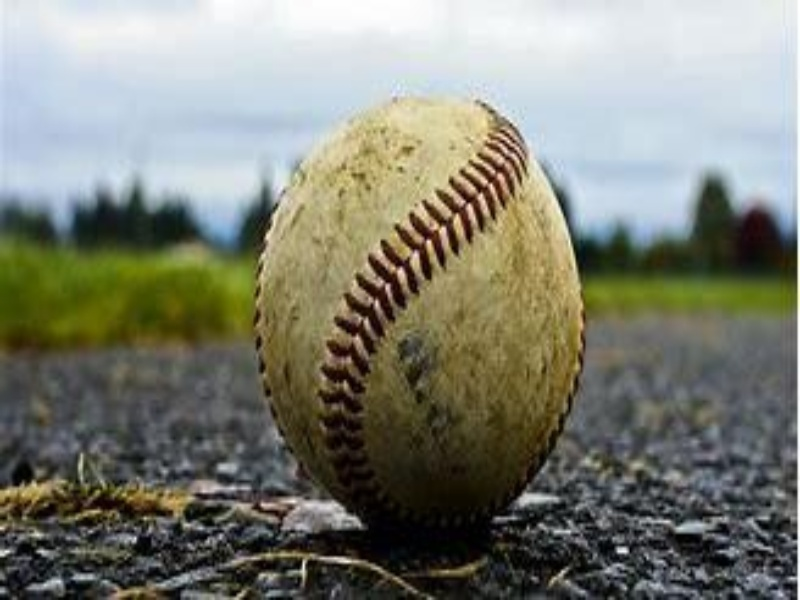baseball: (238, 55, 590, 523)
